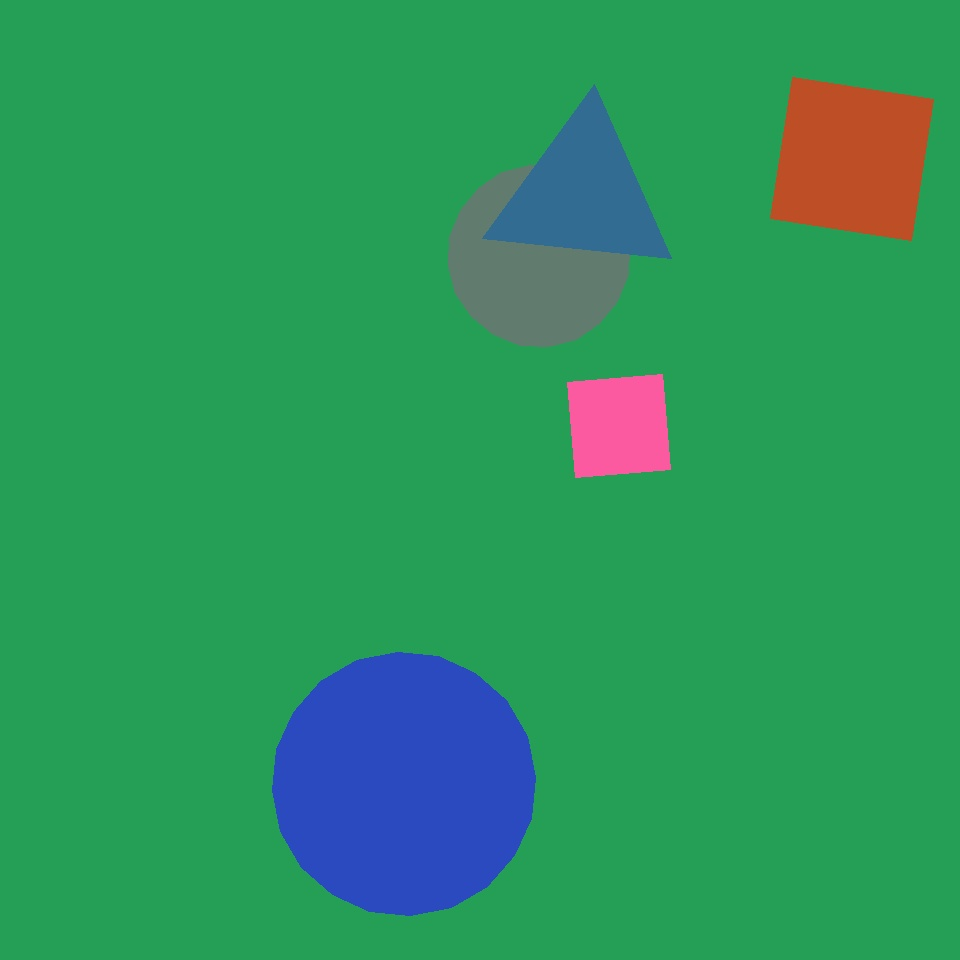circle: (632, 650, 808, 840), (489, 107, 678, 281)
square: (55, 243, 372, 560), (770, 77, 934, 240), (782, 327, 934, 479), (568, 374, 670, 478), (352, 738, 435, 821)
triangle: (333, 239, 631, 537), (272, 652, 536, 916), (95, 352, 289, 546), (448, 166, 629, 346), (183, 180, 316, 312)
